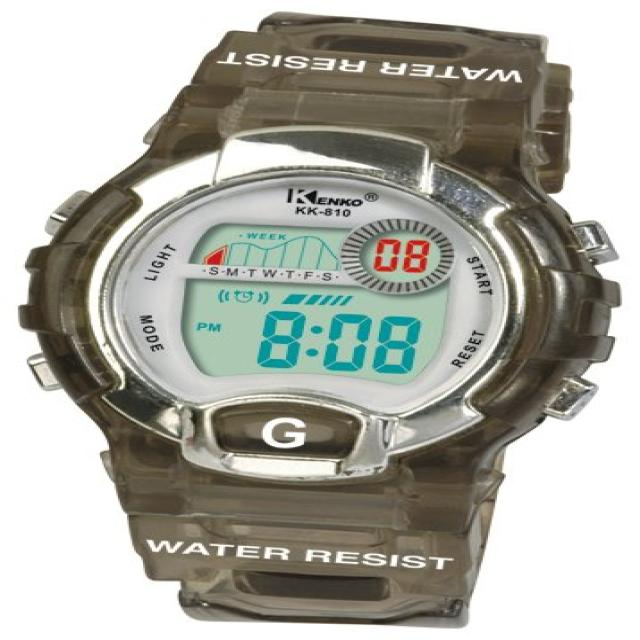watch: (40, 138, 594, 473)
